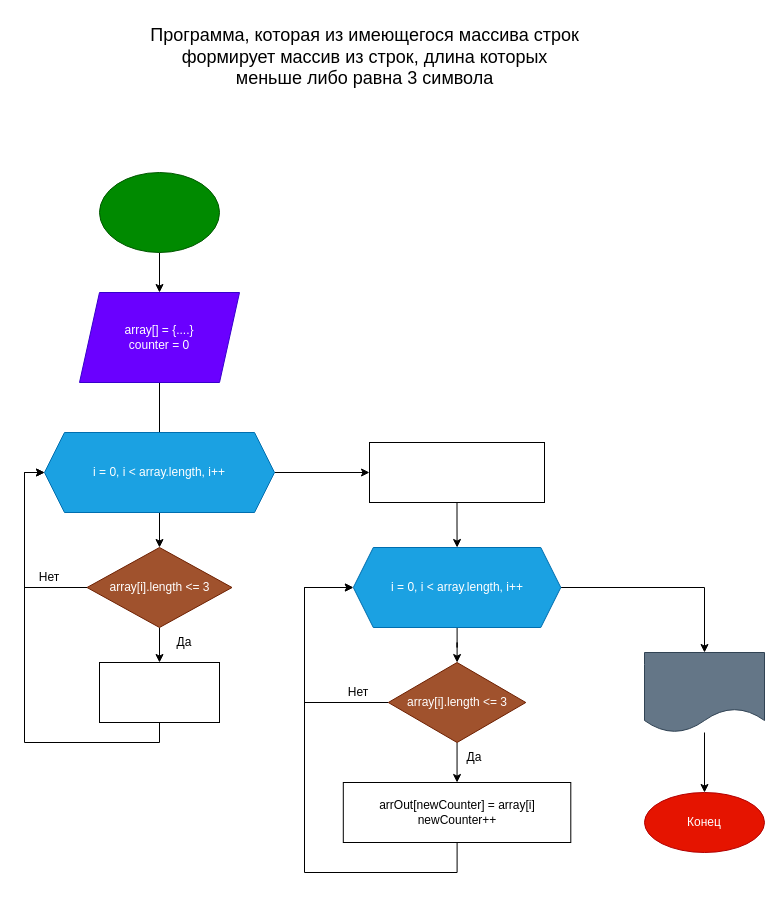
Image size: 782x898. Some labels were removed from this diagram. Each missing label, with the centre of its shape:
arrOut[]: pixel 704 692
counter++: pixel 159 692
new arrOut[counter] newCounter = 0: pixel 456 472
Начало: pixel 159 212
